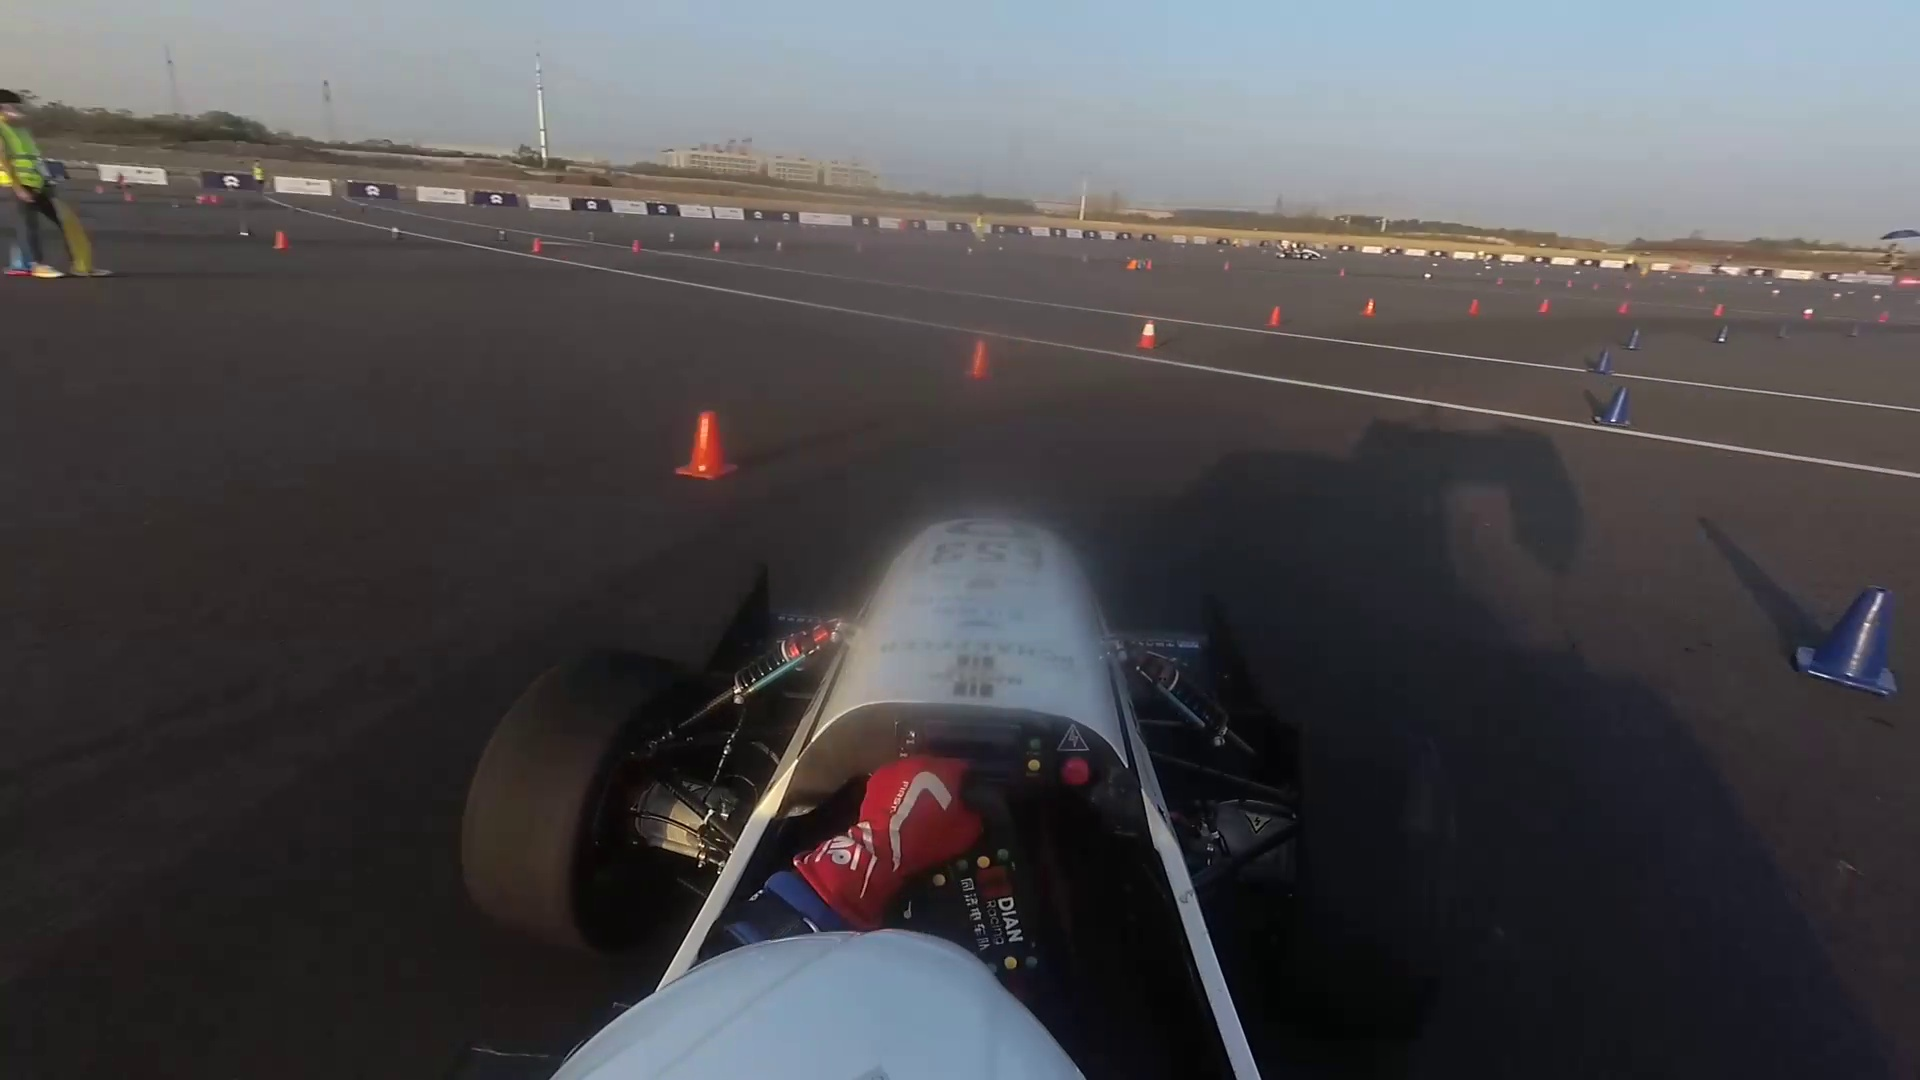blue_cone: (1787, 582, 1894, 705), (1600, 392, 1631, 426), (1592, 349, 1613, 376), (1713, 324, 1730, 345), (1627, 330, 1640, 352), (1847, 320, 1859, 339), (1778, 323, 1789, 342), (497, 227, 508, 245), (390, 225, 400, 241), (585, 229, 595, 243), (669, 233, 676, 247), (775, 241, 782, 255), (753, 235, 760, 245)
red_cone: (678, 411, 735, 477), (965, 342, 992, 381), (1134, 320, 1160, 352), (273, 229, 289, 253), (1269, 307, 1284, 330), (531, 240, 546, 257), (1469, 299, 1482, 318), (1538, 297, 1549, 315), (1364, 299, 1375, 318), (630, 239, 644, 255), (1803, 307, 1815, 320), (1879, 311, 1888, 327), (1618, 302, 1630, 314), (1716, 303, 1726, 316), (1222, 260, 1232, 270), (713, 241, 720, 255), (1338, 266, 1346, 277)
